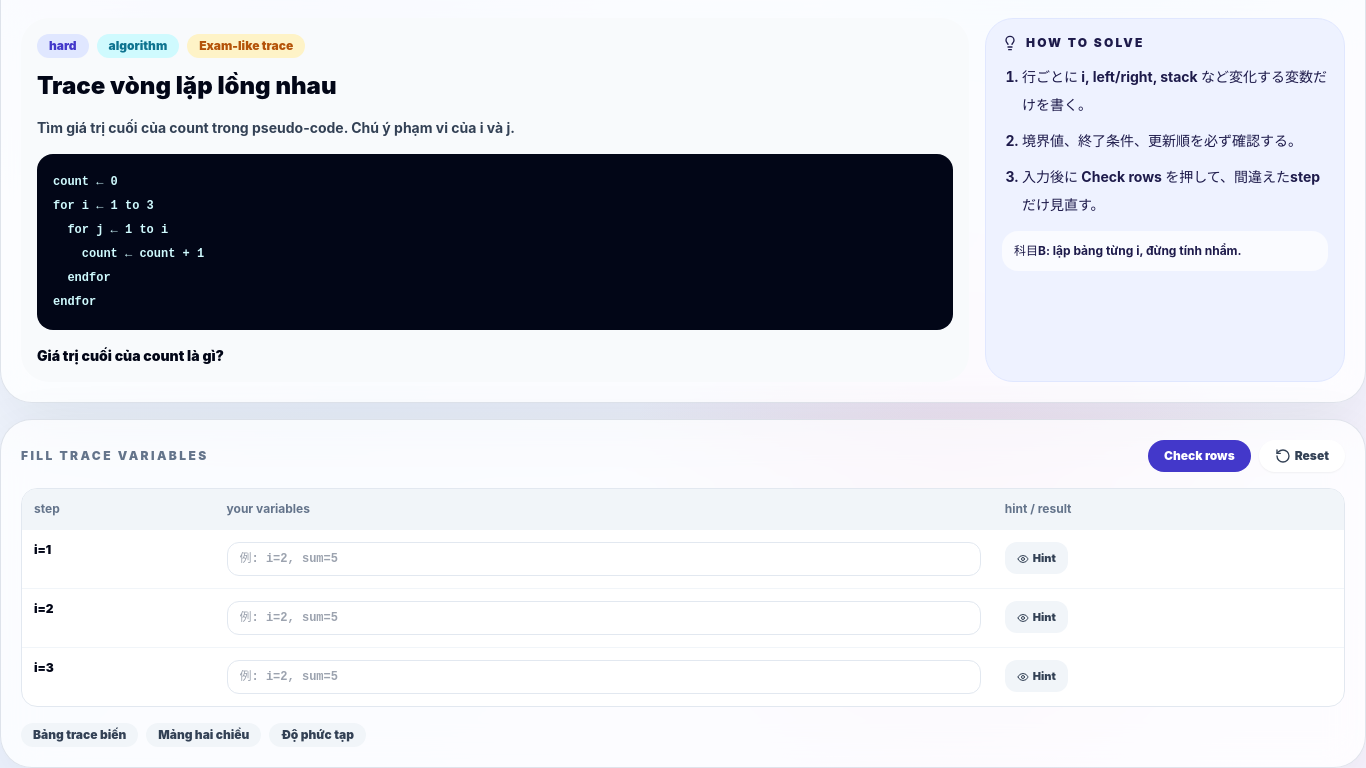
V64 Kamoku B interactive trace trainer › renders an interactive fill-check-hint flow
The width and height of the screenshot is (1366, 768).
(page scrolled)
Click the button "Check rows". click: x=1199, y=456
box: [1148, 440, 1251, 472]
(page scrolled)
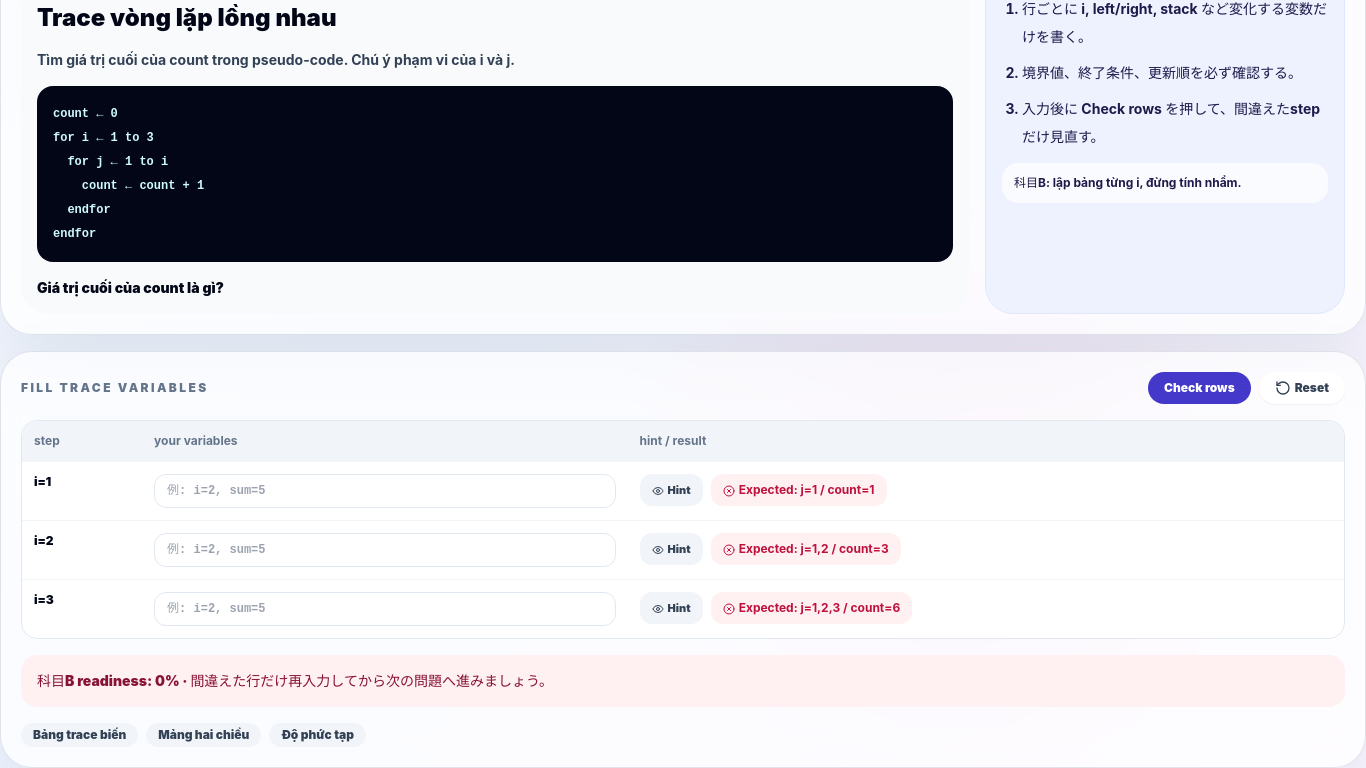
expect the text "科目B readiness: 0% · 間違えた行だけ再入力してから次の問題へ進みましょう。" is shown: met, box [21, 655, 1345, 707]
